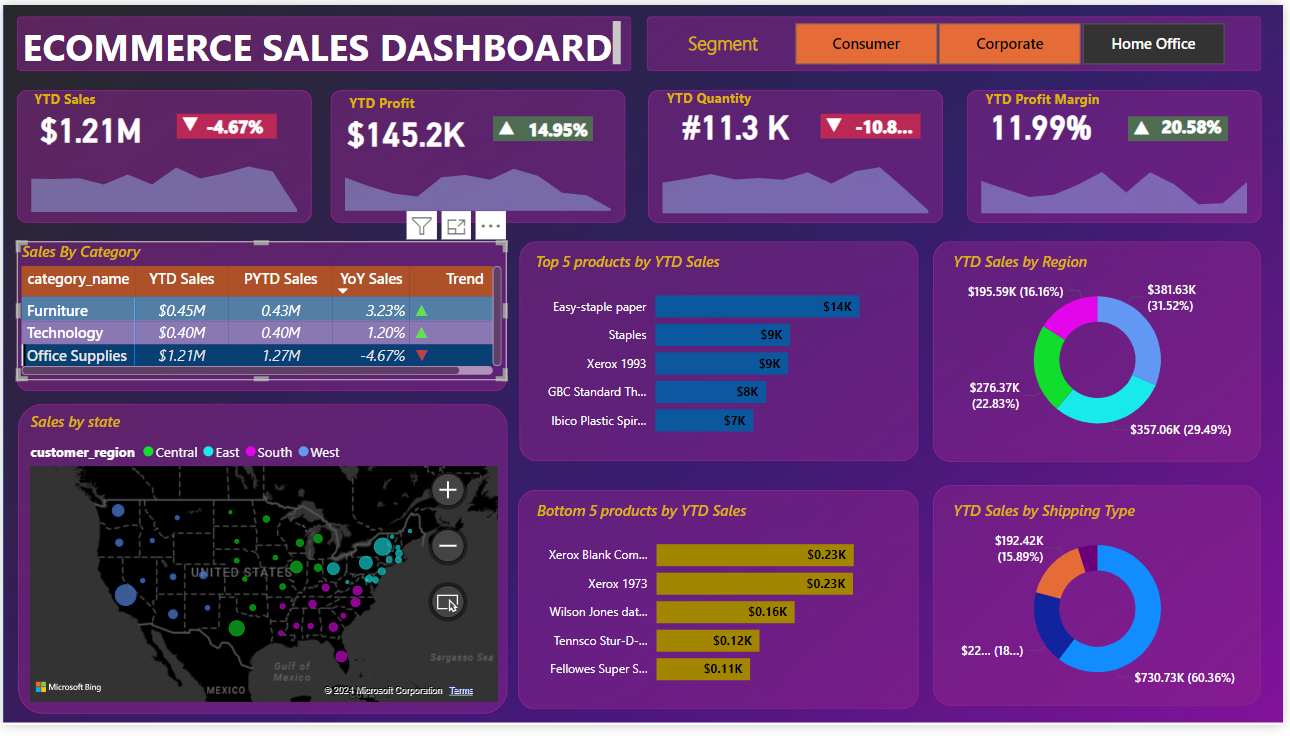

Layout of this report page (visuals, bound fields, positions):
{"tool":"powerbi","page":{"name":"Page 1","canvas":[1280,720],"ordinal":0},"visuals":[{"type":"shape","box":[174.3,108.4,100.2,24.7],"z":0},{"type":"shape","box":[13.7,11,614.8,54.9],"z":1000},{"type":"textbox","box":[13.7,11,609.3,56.3],"z":2000},{"type":"shape","box":[13.7,85.1,295,133.1],"z":3000},{"type":"card","fields":{"Values":["ecommerce_data.YTD Sales"]},"box":[13.7,82.3,148.2,81],"z":4000},{"type":"areaChart","fields":{"Category":["Calendar.Month"],"Y":["Sum(ecommerce_data.sales_per_order)"]},"box":[13.7,145.5,295,67.2],"z":5000},{"type":"card","fields":{"Values":["ecommerce_data.YoY Sales"]},"box":[174.3,105.7,116.6,34.3],"z":6000},{"type":"card","fields":{"Values":["ecommerce_data.Sales Icon"]},"box":[174.3,104.3,27.4,34.3],"z":7000},{"type":"textbox","box":[26.1,79.6,82.3,28.8],"z":8000},{"type":"shape","box":[489.5,111.8,100.2,24.7],"z":9000},{"type":"shape","box":[328,85.1,295,133.1],"z":10000},{"type":"card","fields":{"Values":["ecommerce_data.YTD Profit"]},"box":[328.9,85.7,148.2,81],"z":11000},{"type":"areaChart","fields":{"Category":["Calendar.Month"],"Y":["Sum(ecommerce_data.profit_per_order)"]},"box":[327.7,143.5,295,67.2],"z":12000},{"type":"card","fields":{"Values":["ecommerce_data.YoY Profit"]},"box":[503.6,112.5,102.9,28.8],"z":13000},{"type":"card","fields":{"Values":["ecommerce_data.Profit Icon"]},"box":[489.6,107.9,27.4,34.3],"z":14000},{"type":"textbox","box":[341.4,83.2,112.5,28.8],"z":15000},{"type":"shape","box":[817.8,108.4,100.2,24.7],"z":16000},{"type":"shape","box":[644.9,85.1,295,133.1],"z":17000},{"type":"card","fields":{"Values":["ecommerce_data.YTD Concatinated Qty"]},"box":[658.7,79.6,148.2,81],"z":18000},{"type":"areaChart","fields":{"Category":["Calendar.Month"],"Y":["Sum(ecommerce_data.order_quantity)"]},"box":[644.7,145.7,295,67.2],"z":19000},{"type":"card","fields":{"Values":["ecommerce_data.YoY Qty"]},"box":[845.3,108.4,72.7,28.8],"z":20000},{"type":"card","fields":{"Values":["ecommerce_data.Qty Icon"]},"box":[817.8,101.5,27.4,41.2],"z":21000},{"type":"textbox","box":[658.8,78.9,112.5,28.8],"z":22000},{"type":"shape","box":[1125.2,110.9,100.2,24.7],"z":23000},{"type":"shape","box":[963.3,85.1,295,133.1],"z":24000},{"type":"card","fields":{"Values":["ecommerce_data.YTD Profit Margin"]},"box":[963.3,79.6,148.2,81],"z":25000},{"type":"areaChart","fields":{"Category":["Calendar.Month"],"Y":["ecommerce_data.Profit Margin"]},"box":[964.3,146.8,295,67.2],"z":26000},{"type":"card","fields":{"Values":["ecommerce_data.YoY Profit Margin"]},"box":[1152.7,108.1,72.7,28.8],"z":27000},{"type":"card","fields":{"Values":["ecommerce_data.Profit Margin Icon"]},"box":[1125.2,107,27.4,34.3],"z":28000},{"type":"textbox","box":[977,79.6,148.2,28.8],"z":29000},{"type":"shape","box":[13.7,236,490,150],"z":30000},{"type":"pivotTable","title":"Sales By Category","fields":{"Rows":["ecommerce_data.category_name"],"Values":["ecommerce_data.YTD Sales","ecommerce_data.PYTD Sales","ecommerce_data.YoY Sales","ecommerce_data.Sales Icon"]},"box":[13.7,236,489.9,138.6],"z":31000},{"type":"shape","box":[15.1,399.3,489.9,310.1],"z":31500},{"type":"map","title":"Sales by state","fields":{"Y":["us_state_long_lat_codes.latitude"],"X":["us_state_long_lat_codes.longitude"],"Size":["ecommerce_data.YTD Sales"],"Series":["ecommerce_data.customer_region"]},"box":[22,406.2,477.5,295],"z":32000},{"type":"shape","box":[516,236,399.3,220],"z":32001},{"type":"shape","box":[514.6,484.4,400.7,219.6],"z":32002},{"type":"barChart","title":"Top 5 products by YTD Sales","fields":{"Category":["ecommerce_data.product_name"],"Y":["ecommerce_data.YTD Sales"]},"box":[526.9,245.6,376,197.6],"z":32003},{"type":"barChart","title":"Bottom 5 products by YTD Sales","fields":{"Category":["ecommerce_data.product_name"],"Y":["ecommerce_data.YTD Sales"]},"box":[528.3,495.4,376,197.6],"z":32004},{"type":"shape","box":[930.4,236,328,220.9],"z":32005},{"type":"shape","box":[930.4,480.3,328,220.9],"z":32006},{"type":"donutChart","title":"YTD Sales by Region","fields":{"Category":["ecommerce_data.customer_region"],"Y":["ecommerce_data.YTD Sales"]},"box":[945.5,245.6,299.1,197.6],"z":32007},{"type":"donutChart","title":"YTD Sales by Shipping Type","fields":{"Y":["ecommerce_data.YTD Sales"],"Category":["ecommerce_data.shipping_type"]},"box":[945.5,495.4,299.1,197.6],"z":32008},{"type":"shape","box":[643.6,11,614.8,54.9],"z":32009},{"type":"slicer","fields":{"Values":["ecommerce_data.customer_segment"]},"box":[765.7,11,478.9,54.9],"z":32010},{"type":"textbox","box":[680.6,20.6,90.6,45.3],"z":32011}]}

Visuals, with their boxes in screenshot pixels (x1, y1, x2, y2), scaled from the page's 1280x720 canvas onto the 1290x736 screenshot:
shape: box=[176, 111, 277, 136]
shape: box=[14, 11, 633, 67]
textbox: box=[14, 11, 628, 69]
shape: box=[14, 87, 311, 223]
card - ecommerce_data.YTD Sales: box=[14, 84, 163, 167]
areaChart - Calendar.Month x Sum(ecommerce_data.sales_per_order): box=[14, 149, 311, 217]
card - ecommerce_data.YoY Sales: box=[176, 108, 293, 143]
card - ecommerce_data.Sales Icon: box=[176, 107, 203, 142]
textbox: box=[26, 81, 109, 111]
shape: box=[493, 114, 594, 140]
shape: box=[331, 87, 628, 223]
card - ecommerce_data.YTD Profit: box=[331, 88, 481, 170]
areaChart - Calendar.Month x Sum(ecommerce_data.profit_per_order): box=[330, 147, 628, 215]
card - ecommerce_data.YoY Profit: box=[508, 115, 611, 144]
card - ecommerce_data.Profit Icon: box=[493, 110, 521, 145]
textbox: box=[344, 85, 457, 114]
shape: box=[824, 111, 925, 136]
shape: box=[650, 87, 947, 223]
card - ecommerce_data.YTD Concatinated Qty: box=[664, 81, 813, 164]
areaChart - Calendar.Month x Sum(ecommerce_data.order_quantity): box=[650, 149, 947, 218]
card - ecommerce_data.YoY Qty: box=[852, 111, 925, 140]
card - ecommerce_data.Qty Icon: box=[824, 104, 852, 146]
textbox: box=[664, 81, 777, 110]
shape: box=[1134, 113, 1235, 139]
shape: box=[971, 87, 1268, 223]
card - ecommerce_data.YTD Profit Margin: box=[971, 81, 1120, 164]
areaChart - Calendar.Month x ecommerce_data.Profit Margin: box=[972, 150, 1269, 219]
card - ecommerce_data.YoY Profit Margin: box=[1162, 111, 1235, 140]
card - ecommerce_data.Profit Margin Icon: box=[1134, 109, 1162, 144]
textbox: box=[985, 81, 1134, 111]
shape: box=[14, 241, 508, 395]
"Sales By Category" pivotTable: box=[14, 241, 508, 383]
shape: box=[15, 408, 509, 725]
"Sales by state" map: box=[22, 415, 503, 717]
shape: box=[520, 241, 922, 466]
shape: box=[519, 495, 922, 720]
"Top 5 products by YTD Sales" barChart: box=[531, 251, 910, 453]
"Bottom 5 products by YTD Sales" barChart: box=[532, 506, 911, 708]
shape: box=[938, 241, 1268, 467]
shape: box=[938, 491, 1268, 717]
"YTD Sales by Region" donutChart: box=[953, 251, 1254, 453]
"YTD Sales by Shipping Type" donutChart: box=[953, 506, 1254, 708]
shape: box=[649, 11, 1268, 67]
slicer - ecommerce_data.customer_segment: box=[772, 11, 1254, 67]
textbox: box=[686, 21, 777, 67]
